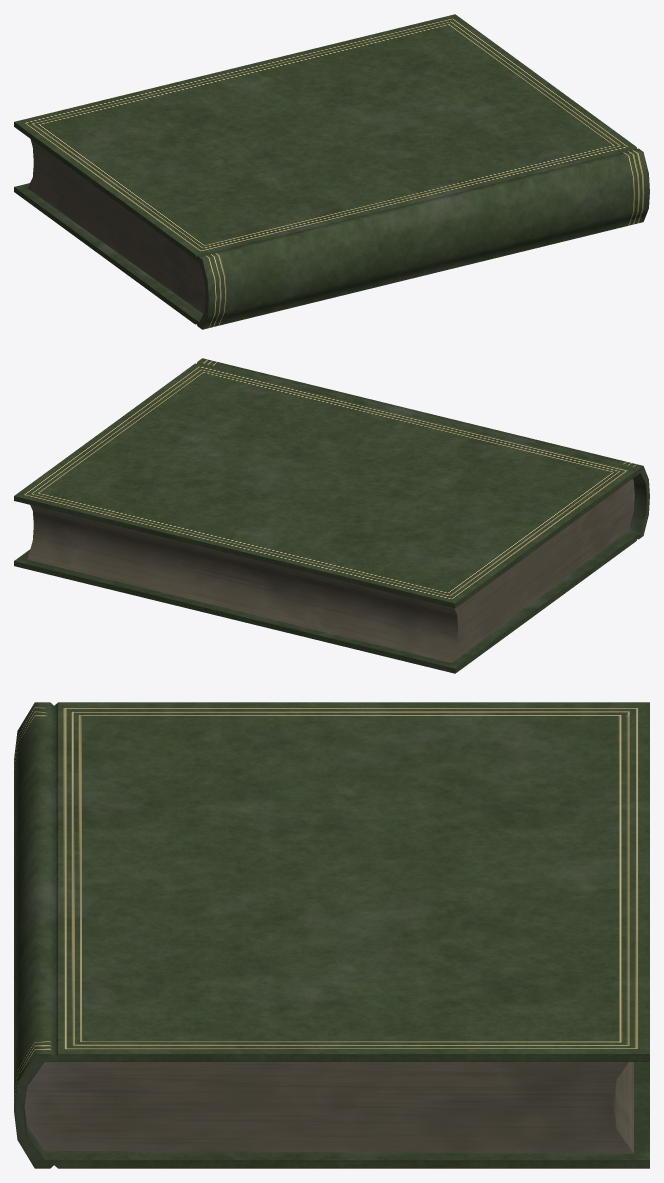
Rendered from book_1.FBX.
3 views of the same model, one above another, from view 1: azimuth 30°, elevation 25°; view 2: azimuth 150°, elevation 25°; view 3: azimuth 270°, elevation 25° (orthographic). The views are drawn at different scales.
Parts seen in each view (by area): view 1: Book_1; view 2: Book_1; view 3: Book_1.
Boxes of the visible parts, x1,y1,x2,y2 form: Book_1: (14,14,649,329); Book_1: (14,358,649,673); Book_1: (14,702,649,1168).
Size of the model in its own units: 0.1625 by 0.0246 by 0.1242.
1 material, 1 textured.
